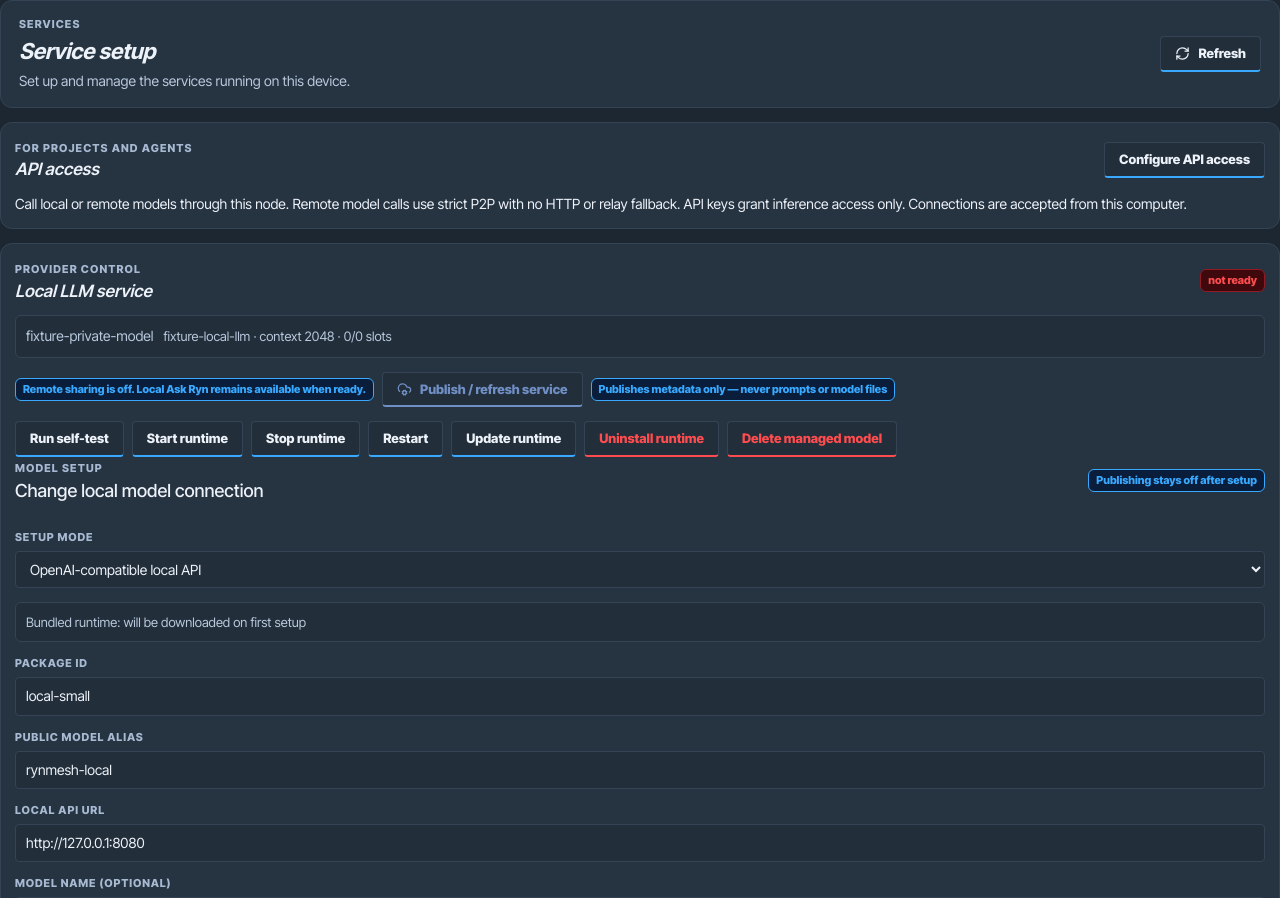
Services local LLM flow › keeps an actionable lifecycle error until retry: configured model file is missing
This screenshot has width=1280, height=898.
Click the button "Start runtime": (187, 439) x1=132 y1=421 x2=243 y2=457
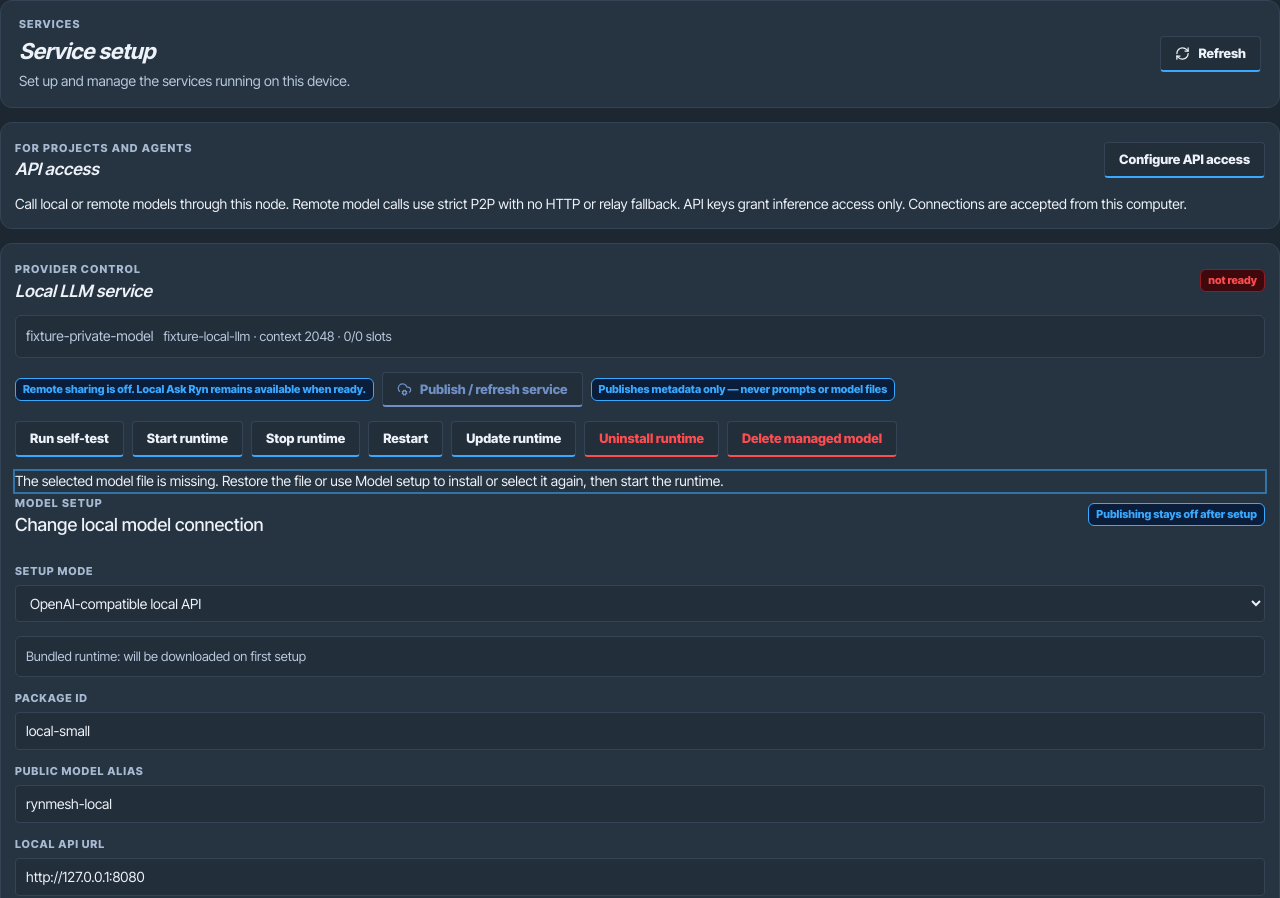
Expected: the message shows "The selected model file is missing", x1=15 y1=472 x2=724 y2=489
Click the button "Start runtime": (187, 439) x1=132 y1=421 x2=243 y2=457
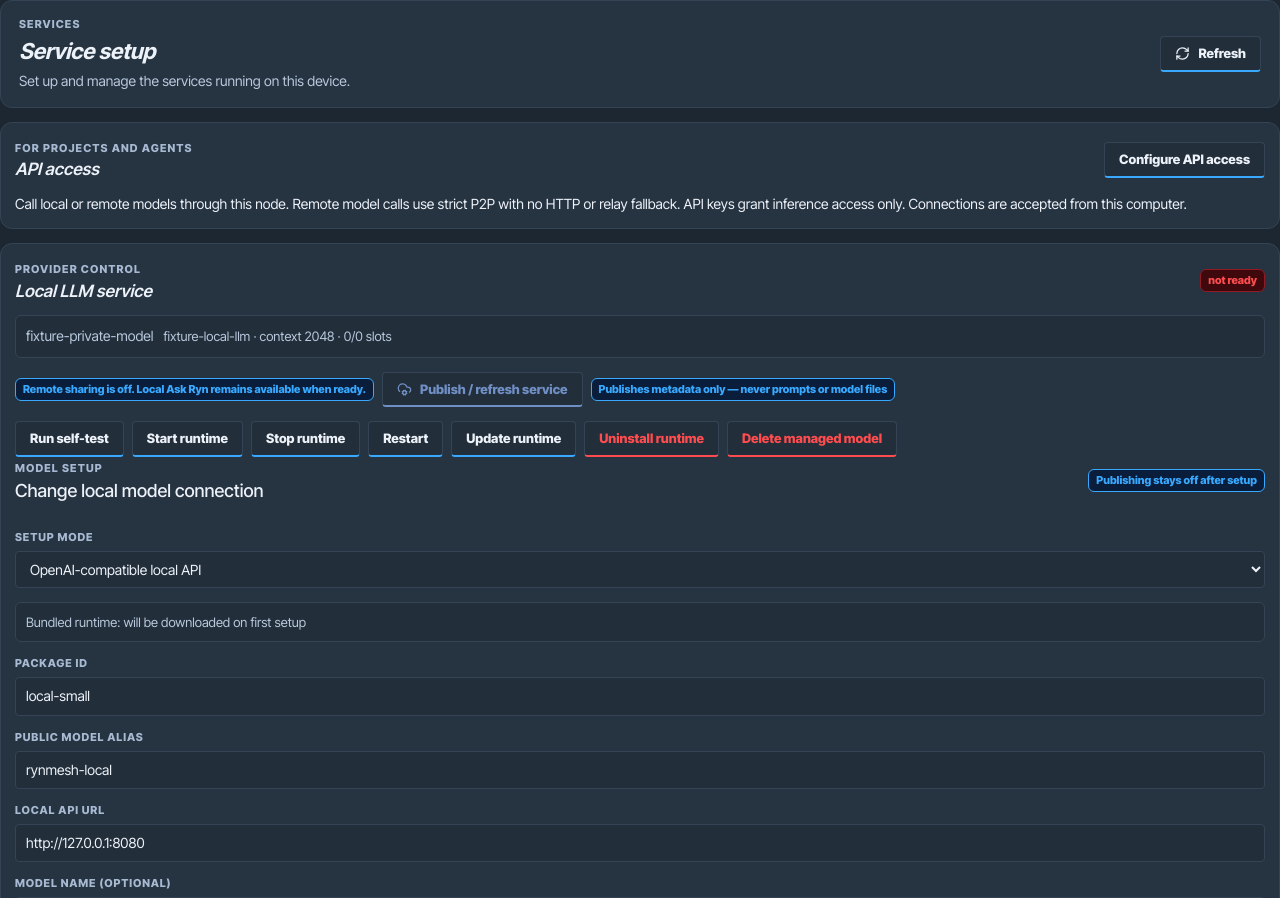
Expected: the text "The selected model file is missing" is gone
